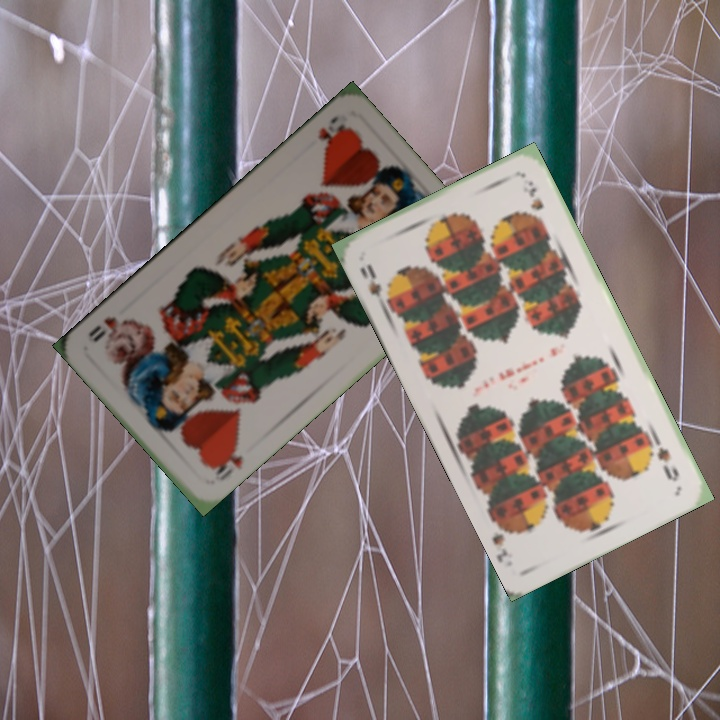HO: (207, 439, 245, 484), (313, 111, 353, 152)
S9: (356, 260, 395, 312), (646, 433, 682, 484)
